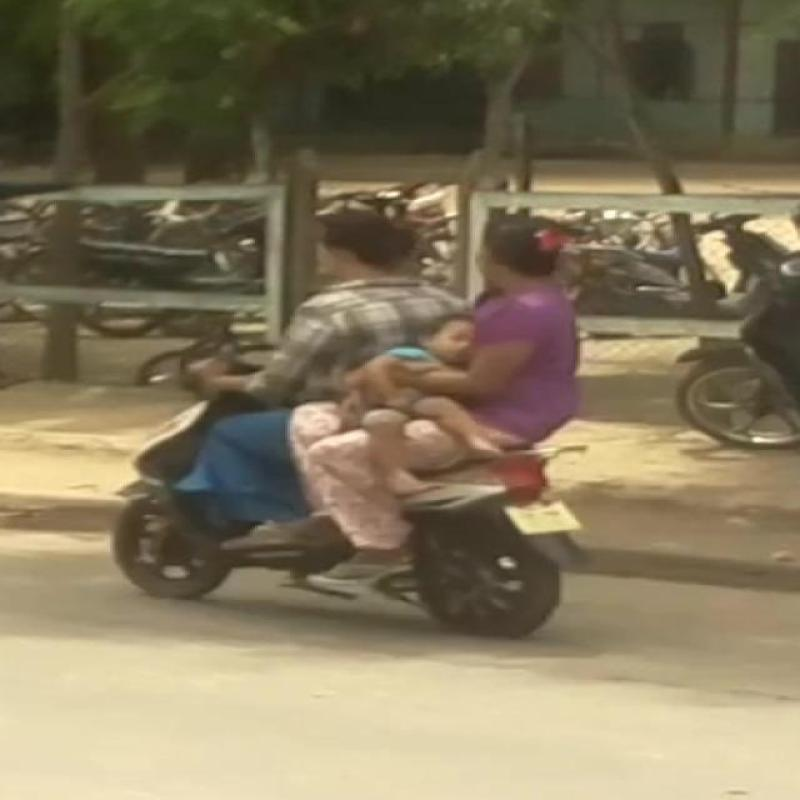nohelmet: (475, 208, 601, 304), (326, 191, 408, 281), (414, 290, 503, 360)
